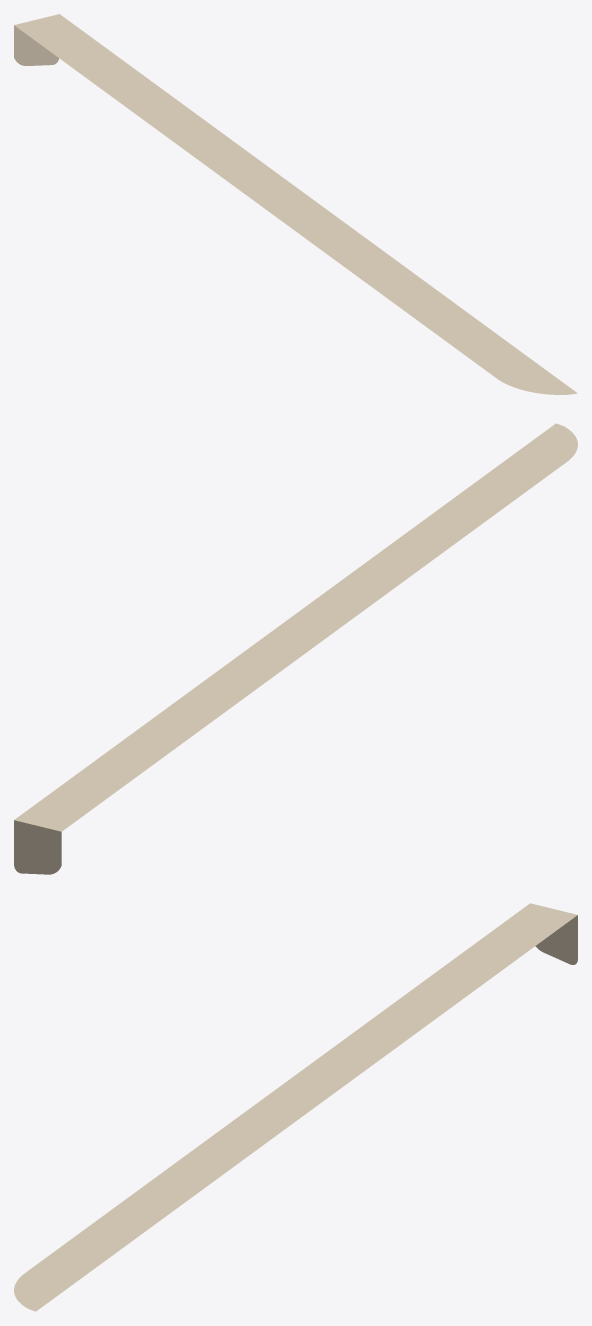
Rendered from original-59.obj.
The picture shows the model from 3 angles, top to bottom: view 1: azimuth 30°, elevation 25°; view 2: azimuth 150°, elevation 25°; view 3: azimuth 330°, elevation 25°; orthographic projection. The views are drawn at different scales.
Parts seen in each view (by area): view 1: #ID386; view 2: #ID386; view 3: #ID386.
Part boxes in pixels (x1=…): #ID386: x1=14, y1=14, x2=577, y2=394; #ID386: x1=14, y1=423, x2=577, y2=874; #ID386: x1=14, y1=903, x2=577, y2=1311.
Bounding box in the file's own units: 0.0335 × 0.0347 × 0.6594.
